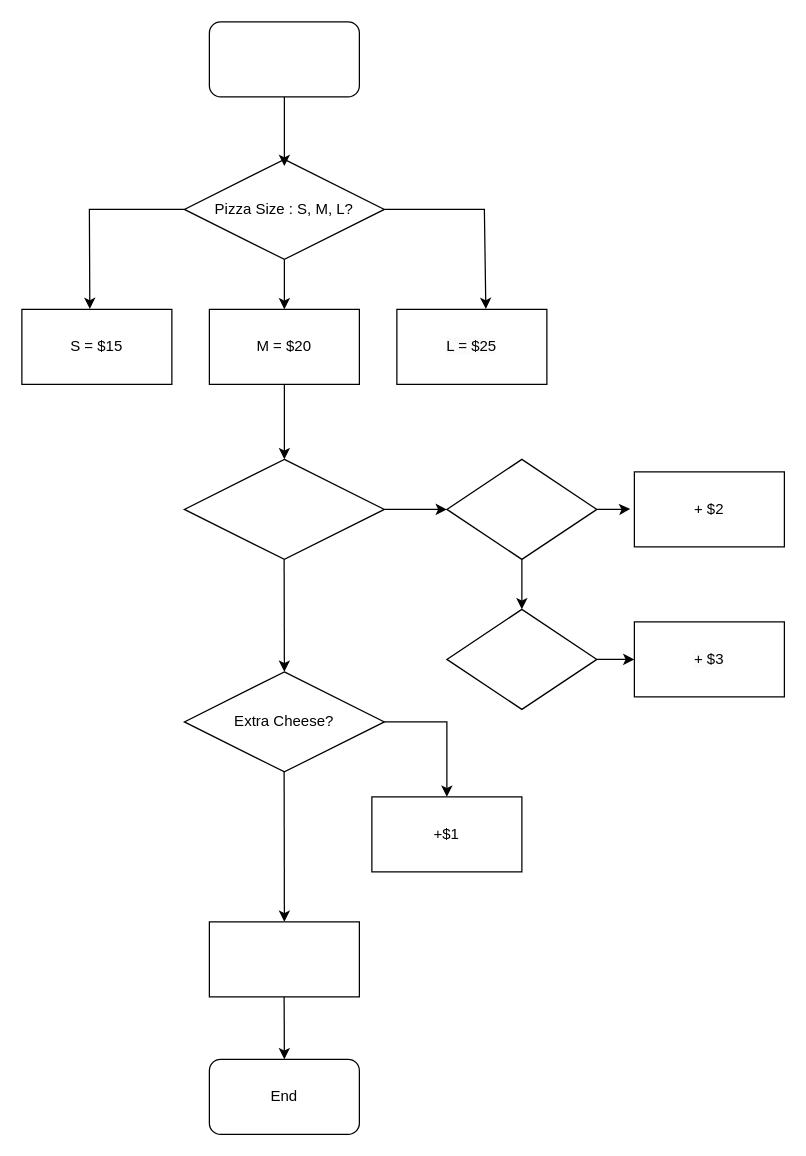
Some shapes in this 806 by 1156 pixel diagram are drawn without their labels. The centre of each missing label's shape, as x and y in pixels:
"Extra Pepperoni?" belongs at point 283,508.
"Pizza Size : M or L?" belongs at point 521,658.
"Pizza Size : S?" belongs at point 521,508.
"Show total Bill" belongs at point 283,959.
"Start" belongs at point 283,59.
